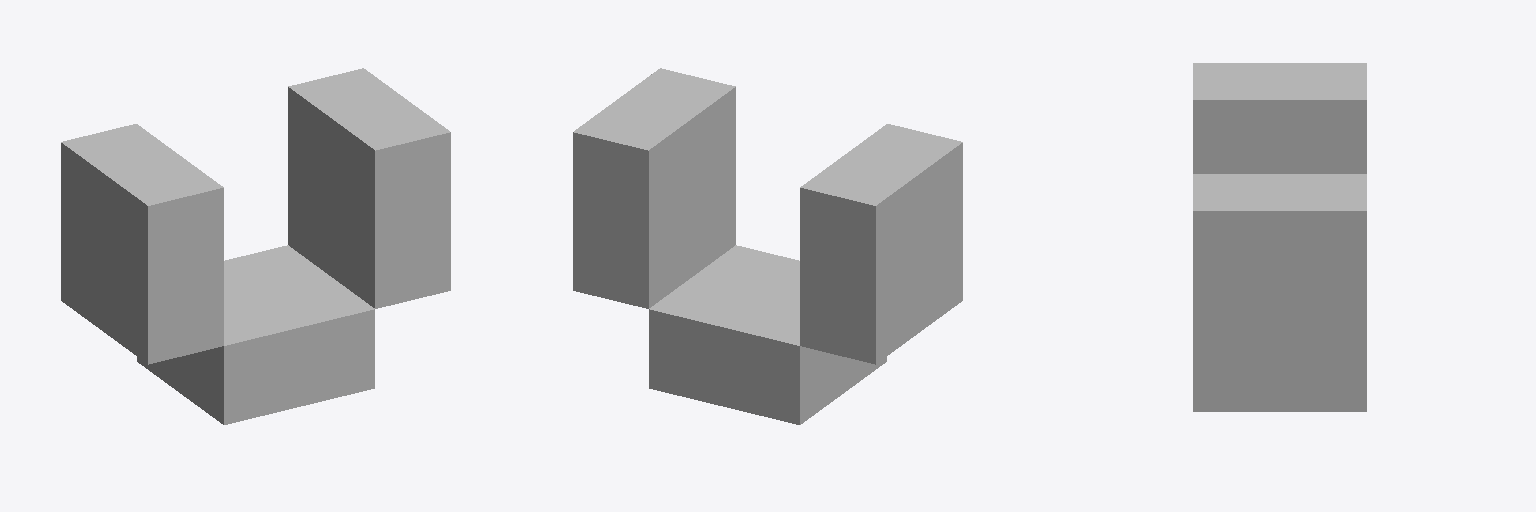
Rendered from sceneBSP.obj.
3 renders of one model, left to right at view 1: azimuth 30°, elevation 25°; view 2: azimuth 150°, elevation 25°; view 3: azimuth 270°, elevation 25°, orthographic.
Visible parts, largest first — view 1: Cube; view 2: Cube; view 3: Cube.
Boxes of the visible parts, <box> form: Cube: <box>61,68,450,424</box>; Cube: <box>573,68,962,424</box>; Cube: <box>1193,63,1366,411</box>.
Size of the model in its own units: 4 by 3 by 2.